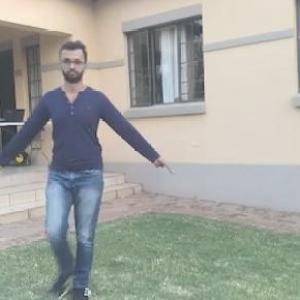land: (17, 62, 162, 274)
